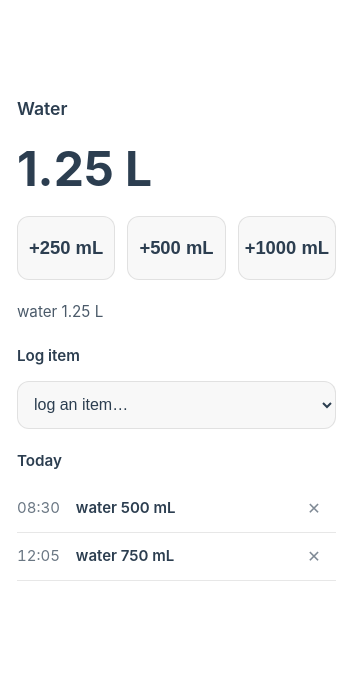
Test case: HomeView › sends the multiplier and resets it to 1 after a successful log
Select "protein bar" in the dropdown with test id "item-select" at {"x": 176, "y": 405}, box [17, 381, 336, 429]
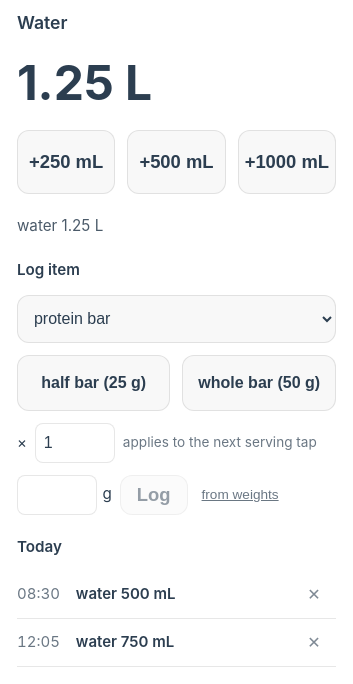
Replace the text in the 1st number field with test id "multiplier-input" with "0.5" at {"x": 75, "y": 443}, box [35, 423, 115, 463]
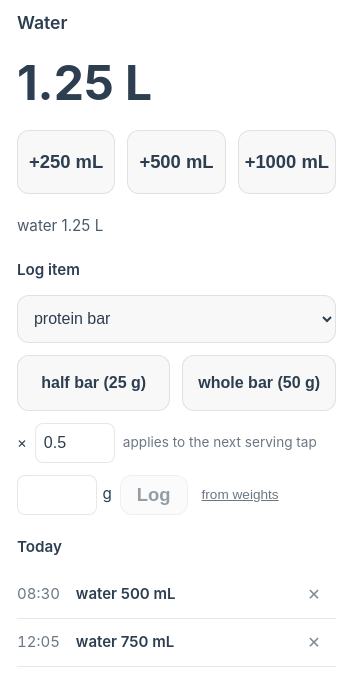
Click the button with test id "serving-button" showing "whole bar (50 g)" at {"x": 259, "y": 383}, box [182, 355, 336, 411]
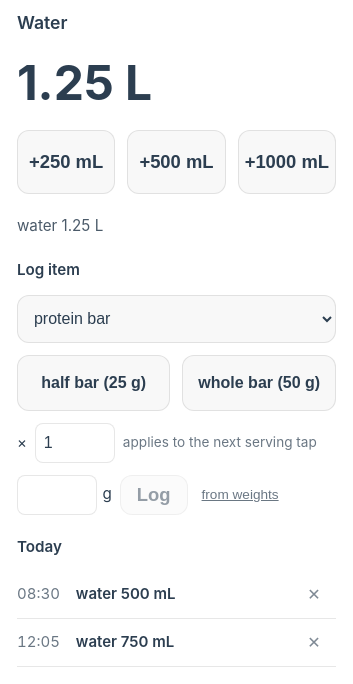
Result: the number field with test id "multiplier-input" holds "1" at [35, 423, 115, 463]
